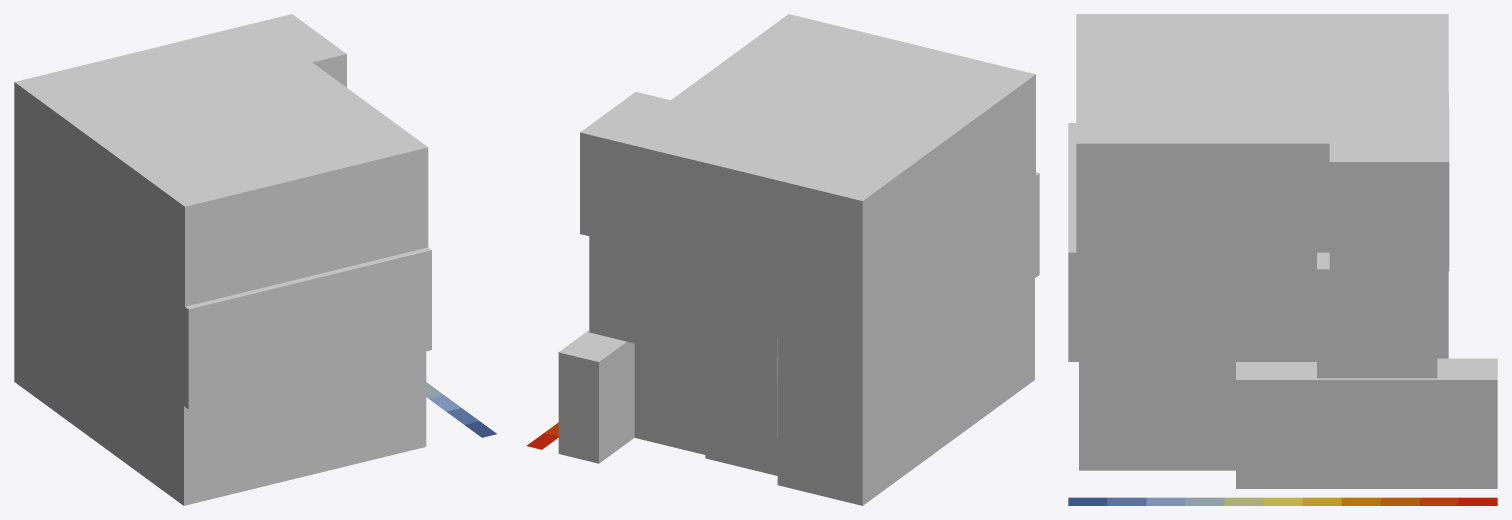
The model's file is Cladding_NDModel.fbx.
The picture shows the model from 3 angles, left to right: view 1: azimuth 30°, elevation 25°; view 2: azimuth 150°, elevation 25°; view 3: azimuth 270°, elevation 25°; orthographic projection. The views are drawn at different scales.
Visible parts, largest first — view 1: 2cladding; view 2: 2cladding; view 3: 2cladding.
Boxes of the visible parts, left/top/right/bottom form: 2cladding: left=14, top=14, right=496, bottom=505; 2cladding: left=527, top=14, right=1039, bottom=505; 2cladding: left=1068, top=14, right=1497, bottom=505.
Size of the model in its own units: 11.64 by 12.83 by 10.8.
